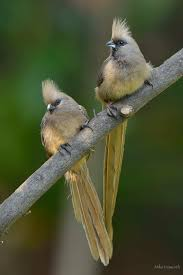target: (90, 12, 157, 245), (30, 75, 109, 266)
